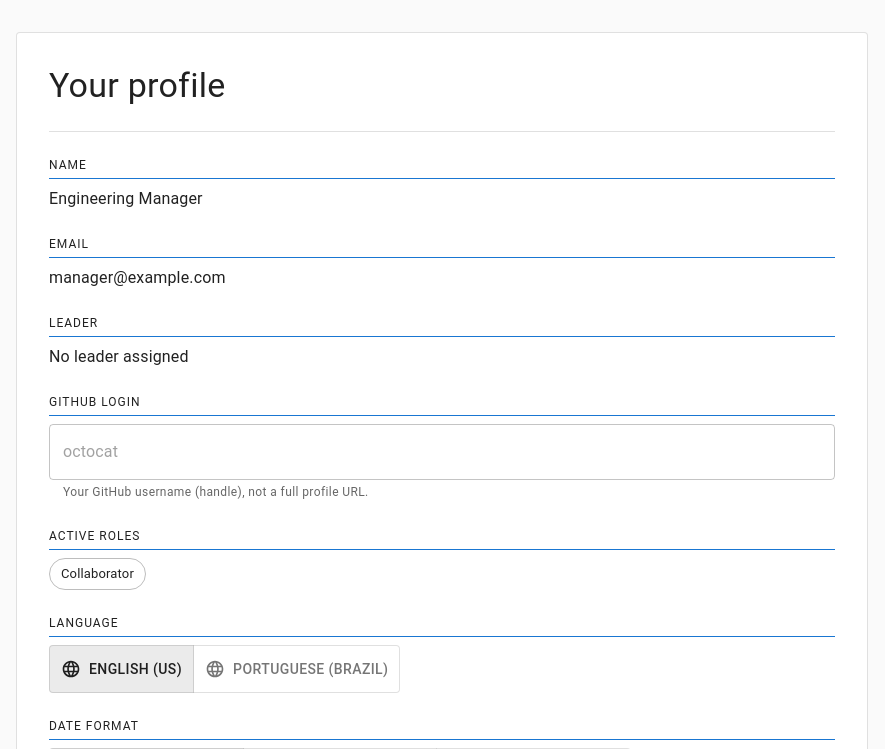
Test: US2 profile page github login › saves github login through the page Save action
The image size is (885, 749).
Type "acme-dev" into the field labelled "GitHub login" at (442, 452), box [49,424,835,480]
(page scrolled)
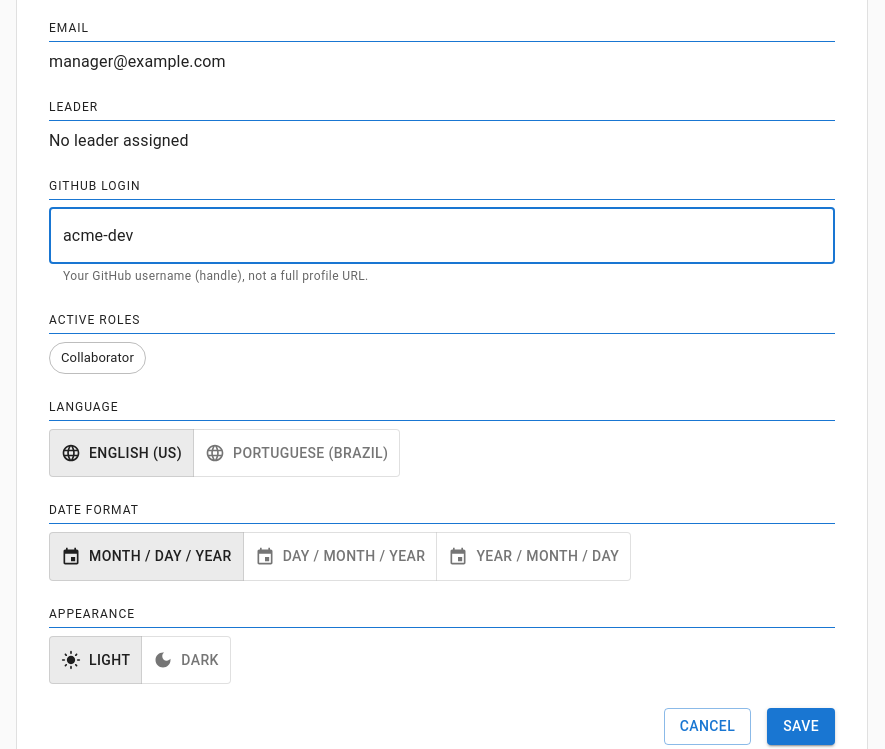
Click the button "Save" at (801, 727), box [767,708,835,745]
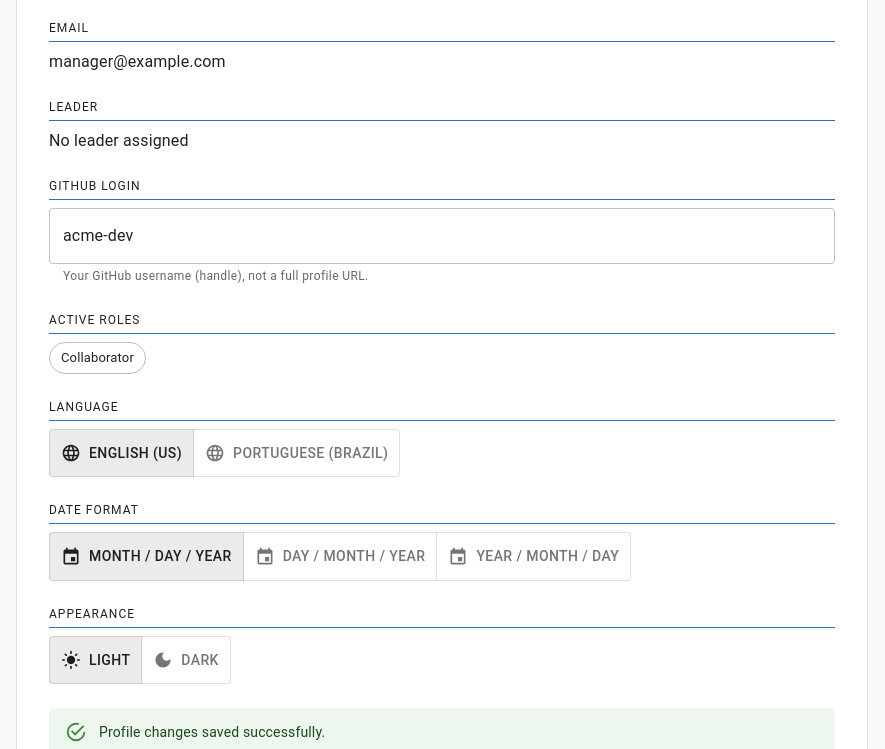
Expected: the text "Profile changes saved successfully." is shown, [99,724,325,740]
